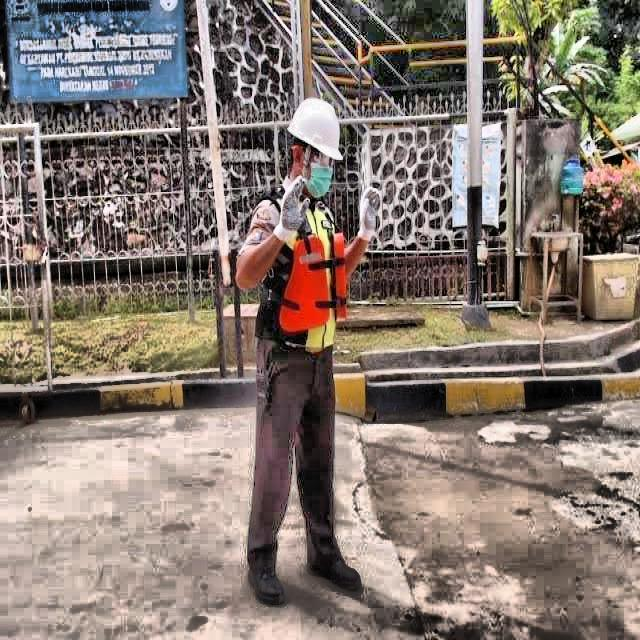gloved: (270, 176, 315, 256)
not-gloved: (354, 179, 383, 251)
